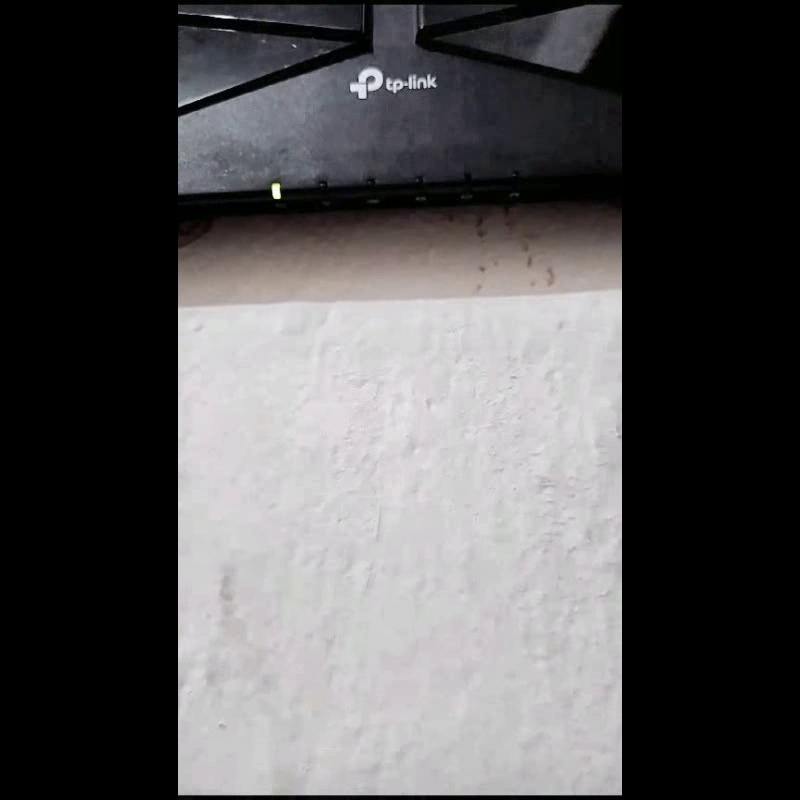off: (317, 179, 328, 197), (414, 174, 424, 193), (365, 176, 376, 193), (461, 170, 471, 188), (510, 169, 519, 187)
on_green: (270, 183, 281, 200)
